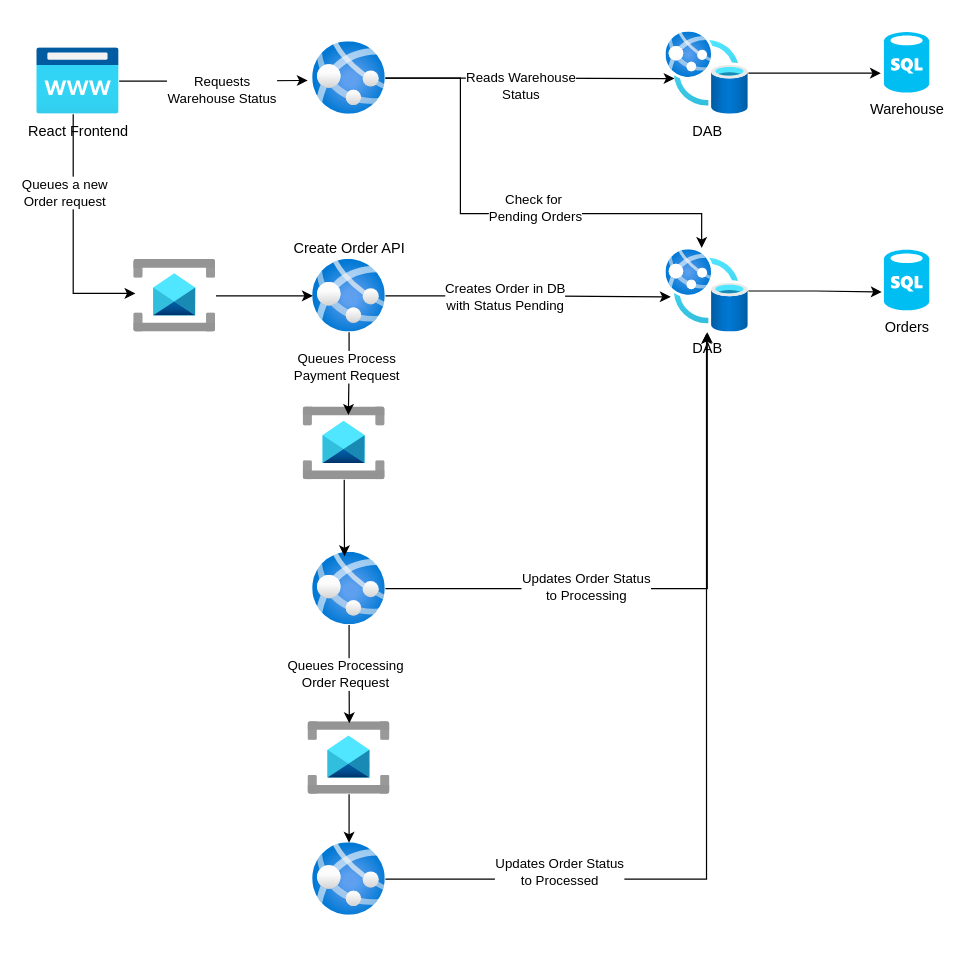
This 964x961 diagram has some shape labels left out. Here are the shapes that lost their labels. From the top down, the box of each, then its label:
(312, 41, 385, 114): Warehouse API
(312, 552, 385, 624): Process Payment API
(312, 842, 385, 915): Shipping API
